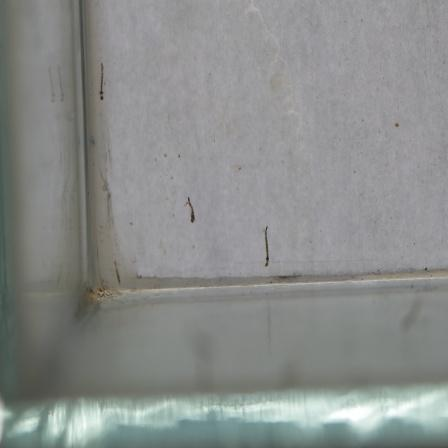Jentik-Nyamuk: (259, 223, 275, 268), (180, 193, 199, 228), (96, 60, 109, 102)
